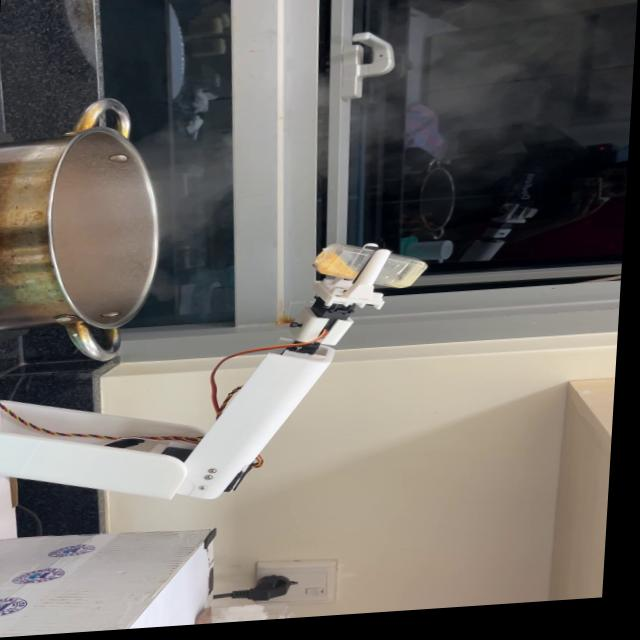cooking_pot: (0, 96, 160, 380)
garlic_powder: (311, 257, 357, 289)
